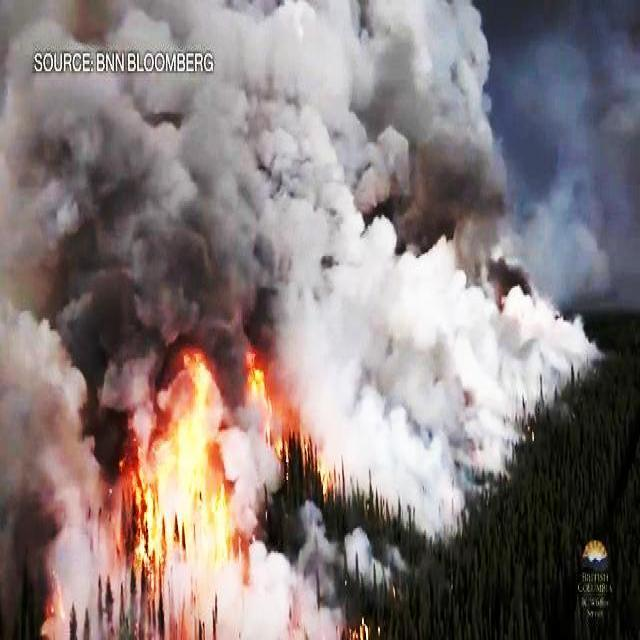Fire: (126, 346, 234, 557), (246, 348, 308, 491)
Smoke: (0, 0, 640, 331), (328, 318, 592, 560), (0, 340, 132, 640), (137, 561, 344, 640)
